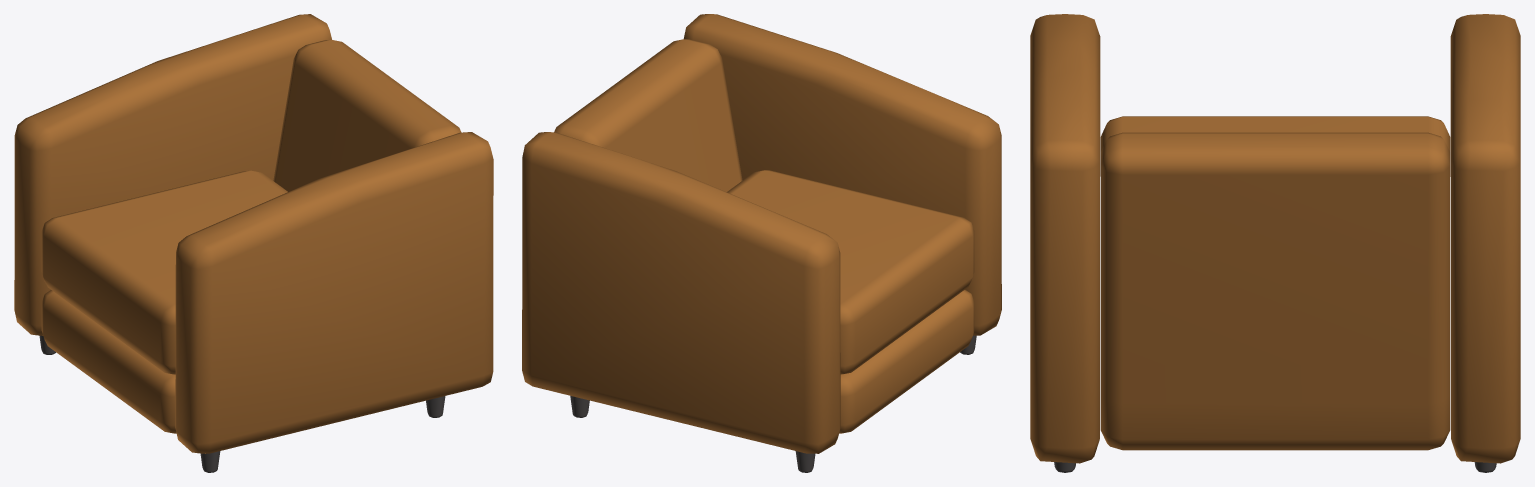
Rendered from armchair_02_brown.fbx.
3 renders of one model, left to right at view 1: azimuth 30°, elevation 25°; view 2: azimuth 150°, elevation 25°; view 3: azimuth 270°, elevation 25°, orthographic. The views are drawn at different scales.
Visible parts, largest first — view 1: armchair_02_brown; view 2: armchair_02_brown; view 3: armchair_02_brown.
Part boxes in pixels (x1,y1,x2,y2): armchair_02_brown: (14,14,493,472); armchair_02_brown: (522,14,1001,472); armchair_02_brown: (1030,14,1520,472).
Size of the model in its own units: 93.54 by 79.46 by 100.
2 materials, 2 textured.
